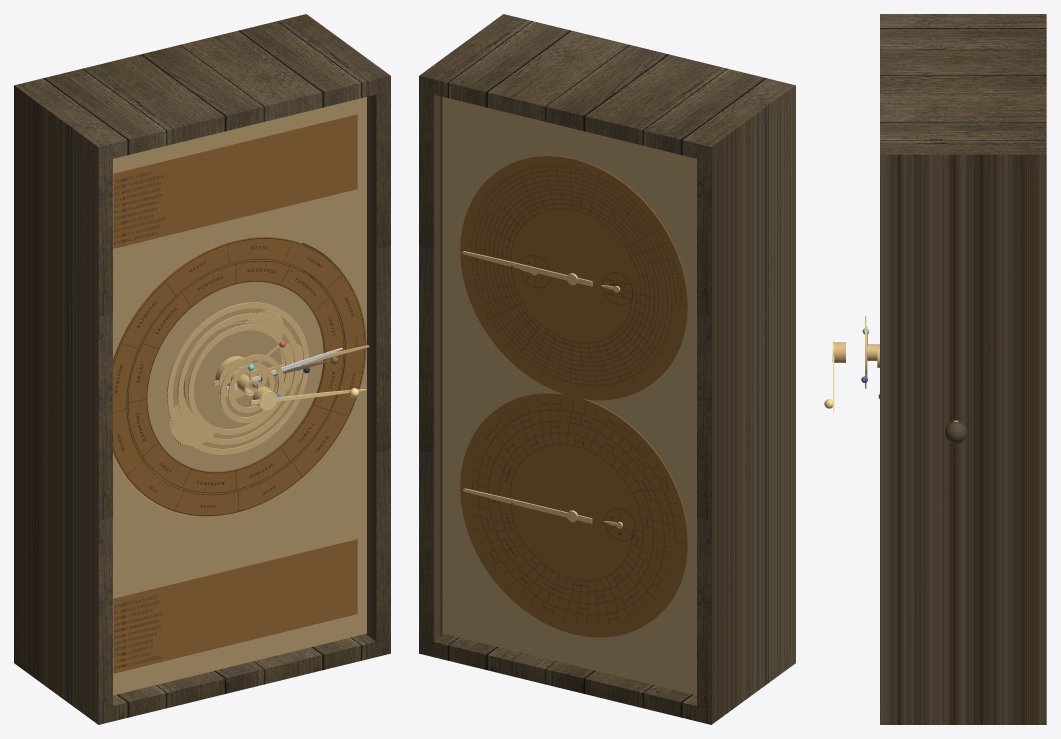
Rendered from antikythera.glb.
3 renders of one model, left to right at view 1: azimuth 30°, elevation 25°; view 2: azimuth 150°, elevation 25°; view 3: azimuth 270°, elevation 25°, orthographic.
Parts seen in each view (by area): view 1: case_left, front_plate, case_top, parapegma_upper, parapegma_lower, calendar_ring, case_right, zodiac_ring, circular_plate, case_bottom, sub_plate, ring_saturn (+7 smaller); view 2: case_left, back_plate, back_lower_dial, back_upper_dial, case_top, case_right, case_bottom, ptr_metonic, ptr_saros; view 3: case_right, case_top, case_left, crank_knob.
Part boxes in pixels (x1,y1,x2,y2): case_left: (14, 82, 112, 724); front_plate: (113, 97, 366, 695); case_top: (14, 14, 390, 161); parapegma_upper: (113, 114, 357, 248); parapegma_lower: (113, 539, 357, 673); calendar_ring: (113, 236, 365, 516); case_right: (294, 14, 390, 656); zodiac_ring: (127, 259, 344, 493); circular_plate: (147, 282, 323, 471); case_bottom: (14, 634, 390, 724); sub_plate: (183, 322, 281, 427); ring_saturn: (167, 302, 309, 454); case_left: (697, 81, 795, 724); back_plate: (443, 97, 696, 695); back_lower_dial: (460, 392, 687, 637); back_upper_dial: (460, 155, 687, 400); case_top: (419, 14, 795, 161); case_right: (419, 14, 517, 656); case_bottom: (419, 634, 795, 724); ptr_metonic: (461, 251, 592, 286); ptr_saros: (462, 488, 592, 523); case_right: (880, 147, 1046, 724); case_top: (880, 14, 1046, 169); case_left: (880, 14, 1046, 20); crank_knob: (945, 421, 966, 443).
Bounding box in the file's own units: 198 × 340 × 120.
17 materials, 6 textured.
